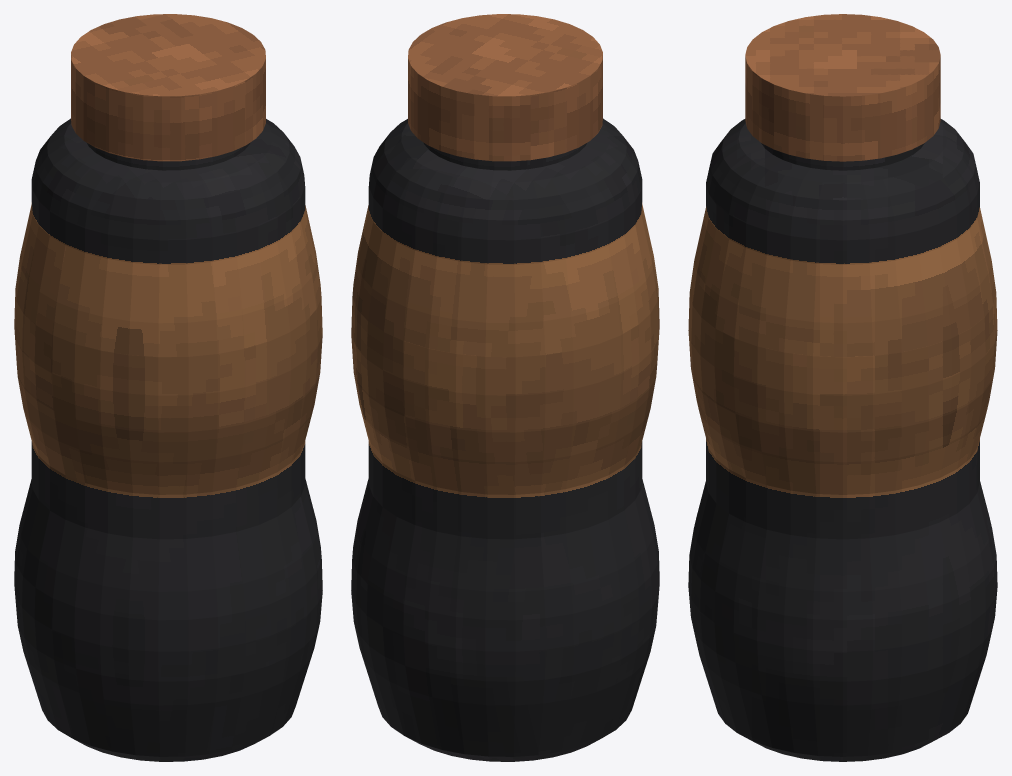
The model's file is Plastic Bottle 03.obj.
The picture shows the model from 3 angles, left to right: view 1: azimuth 30°, elevation 25°; view 2: azimuth 150°, elevation 25°; view 3: azimuth 270°, elevation 25°; orthographic projection.
Parts seen in each view (by area): view 1: Bottles.002; view 2: Bottles.002; view 3: Bottles.002.
Part boxes in pixels (left/top/right/bottom): Bottles.002: left=14, top=14, right=322, bottom=761; Bottles.002: left=351, top=14, right=659, bottom=761; Bottles.002: left=688, top=14, right=997, bottom=761.
Size of the model in its own units: 2.21 by 5.2 by 2.21.
